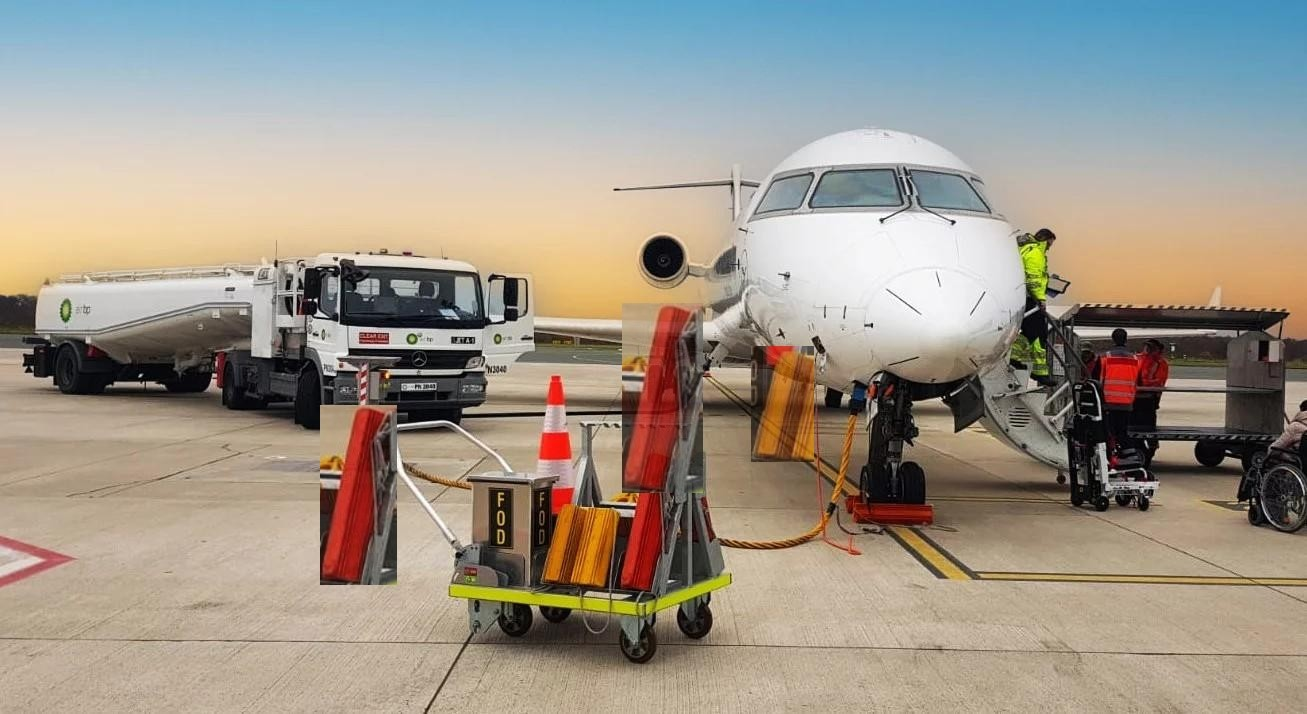chock: (622, 303, 703, 493), (320, 405, 397, 585), (619, 451, 680, 593), (751, 346, 814, 462), (540, 501, 587, 586), (571, 504, 618, 588)
wheel: (296, 366, 346, 429), (54, 344, 104, 396), (221, 355, 255, 408), (159, 360, 214, 392), (894, 460, 928, 506), (860, 458, 890, 505), (409, 405, 463, 430), (1193, 440, 1226, 467)
